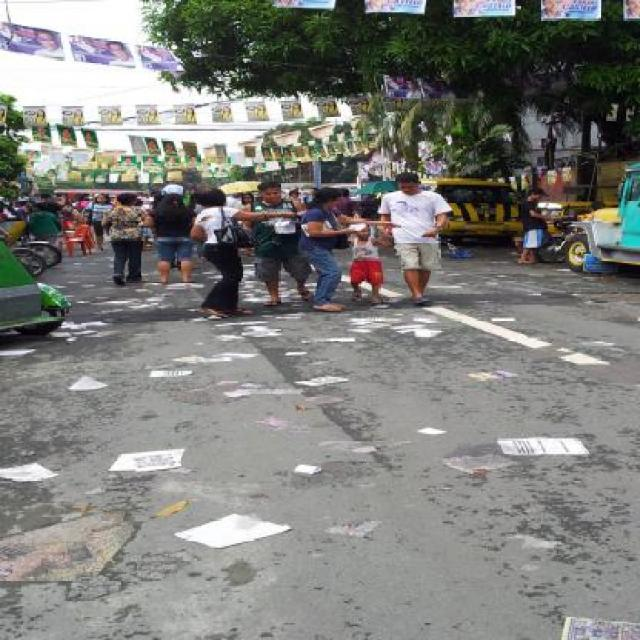garbage: (9, 442, 284, 580), (143, 346, 356, 402), (395, 423, 598, 477), (480, 260, 627, 309), (183, 317, 453, 343), (65, 283, 166, 342), (553, 609, 639, 640)
